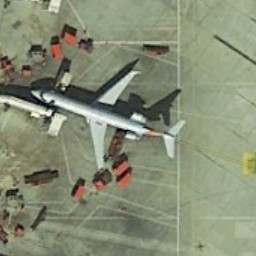Airplane: (23, 56, 191, 182)
